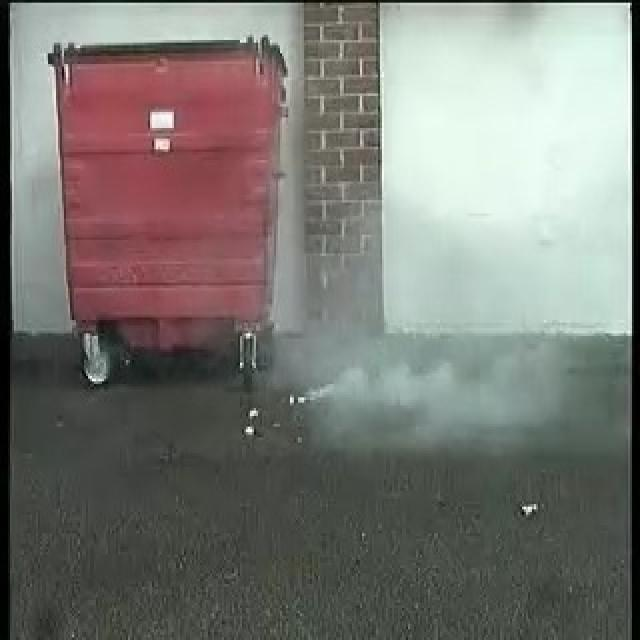Smoke: (277, 222, 458, 450)
